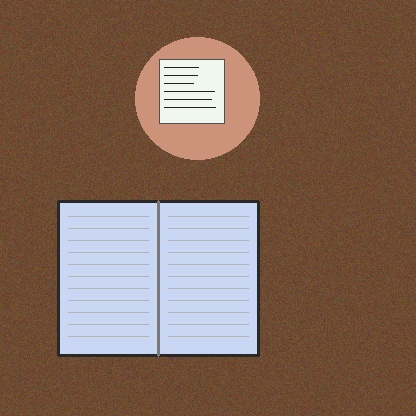book: (58, 201, 258, 355)
exam_chit: (159, 59, 224, 123)
